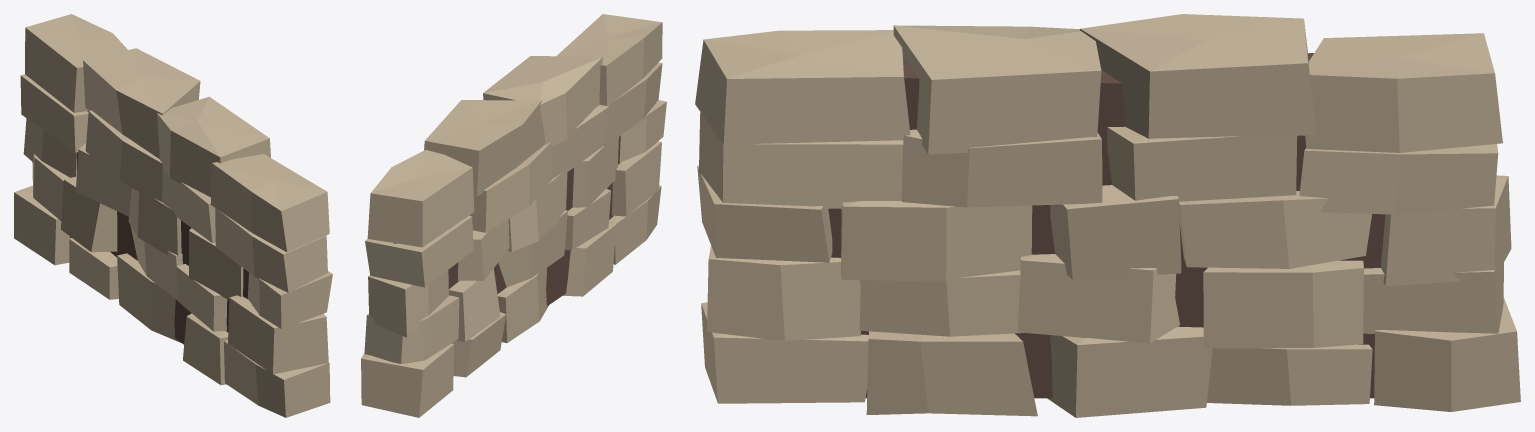
The model's file is LightSandStoneWallSmallBrick1.fbx.
The picture shows the model from 3 angles, left to right: view 1: azimuth 30°, elevation 25°; view 2: azimuth 150°, elevation 25°; view 3: azimuth 270°, elevation 25°; orthographic projection. The views are drawn at different scales.
Visible parts, largest first — view 1: LightSandStoneWallSmallBrick1; view 2: LightSandStoneWallSmallBrick1; view 3: LightSandStoneWallSmallBrick1.
Boxes of the visible parts, left/top/right/bottom form: LightSandStoneWallSmallBrick1: left=14, top=14, right=332, bottom=417; LightSandStoneWallSmallBrick1: left=361, top=14, right=666, bottom=417; LightSandStoneWallSmallBrick1: left=695, top=14, right=1520, bottom=417.
Bounding box in the file's own units: 79.86 × 221 × 469.
